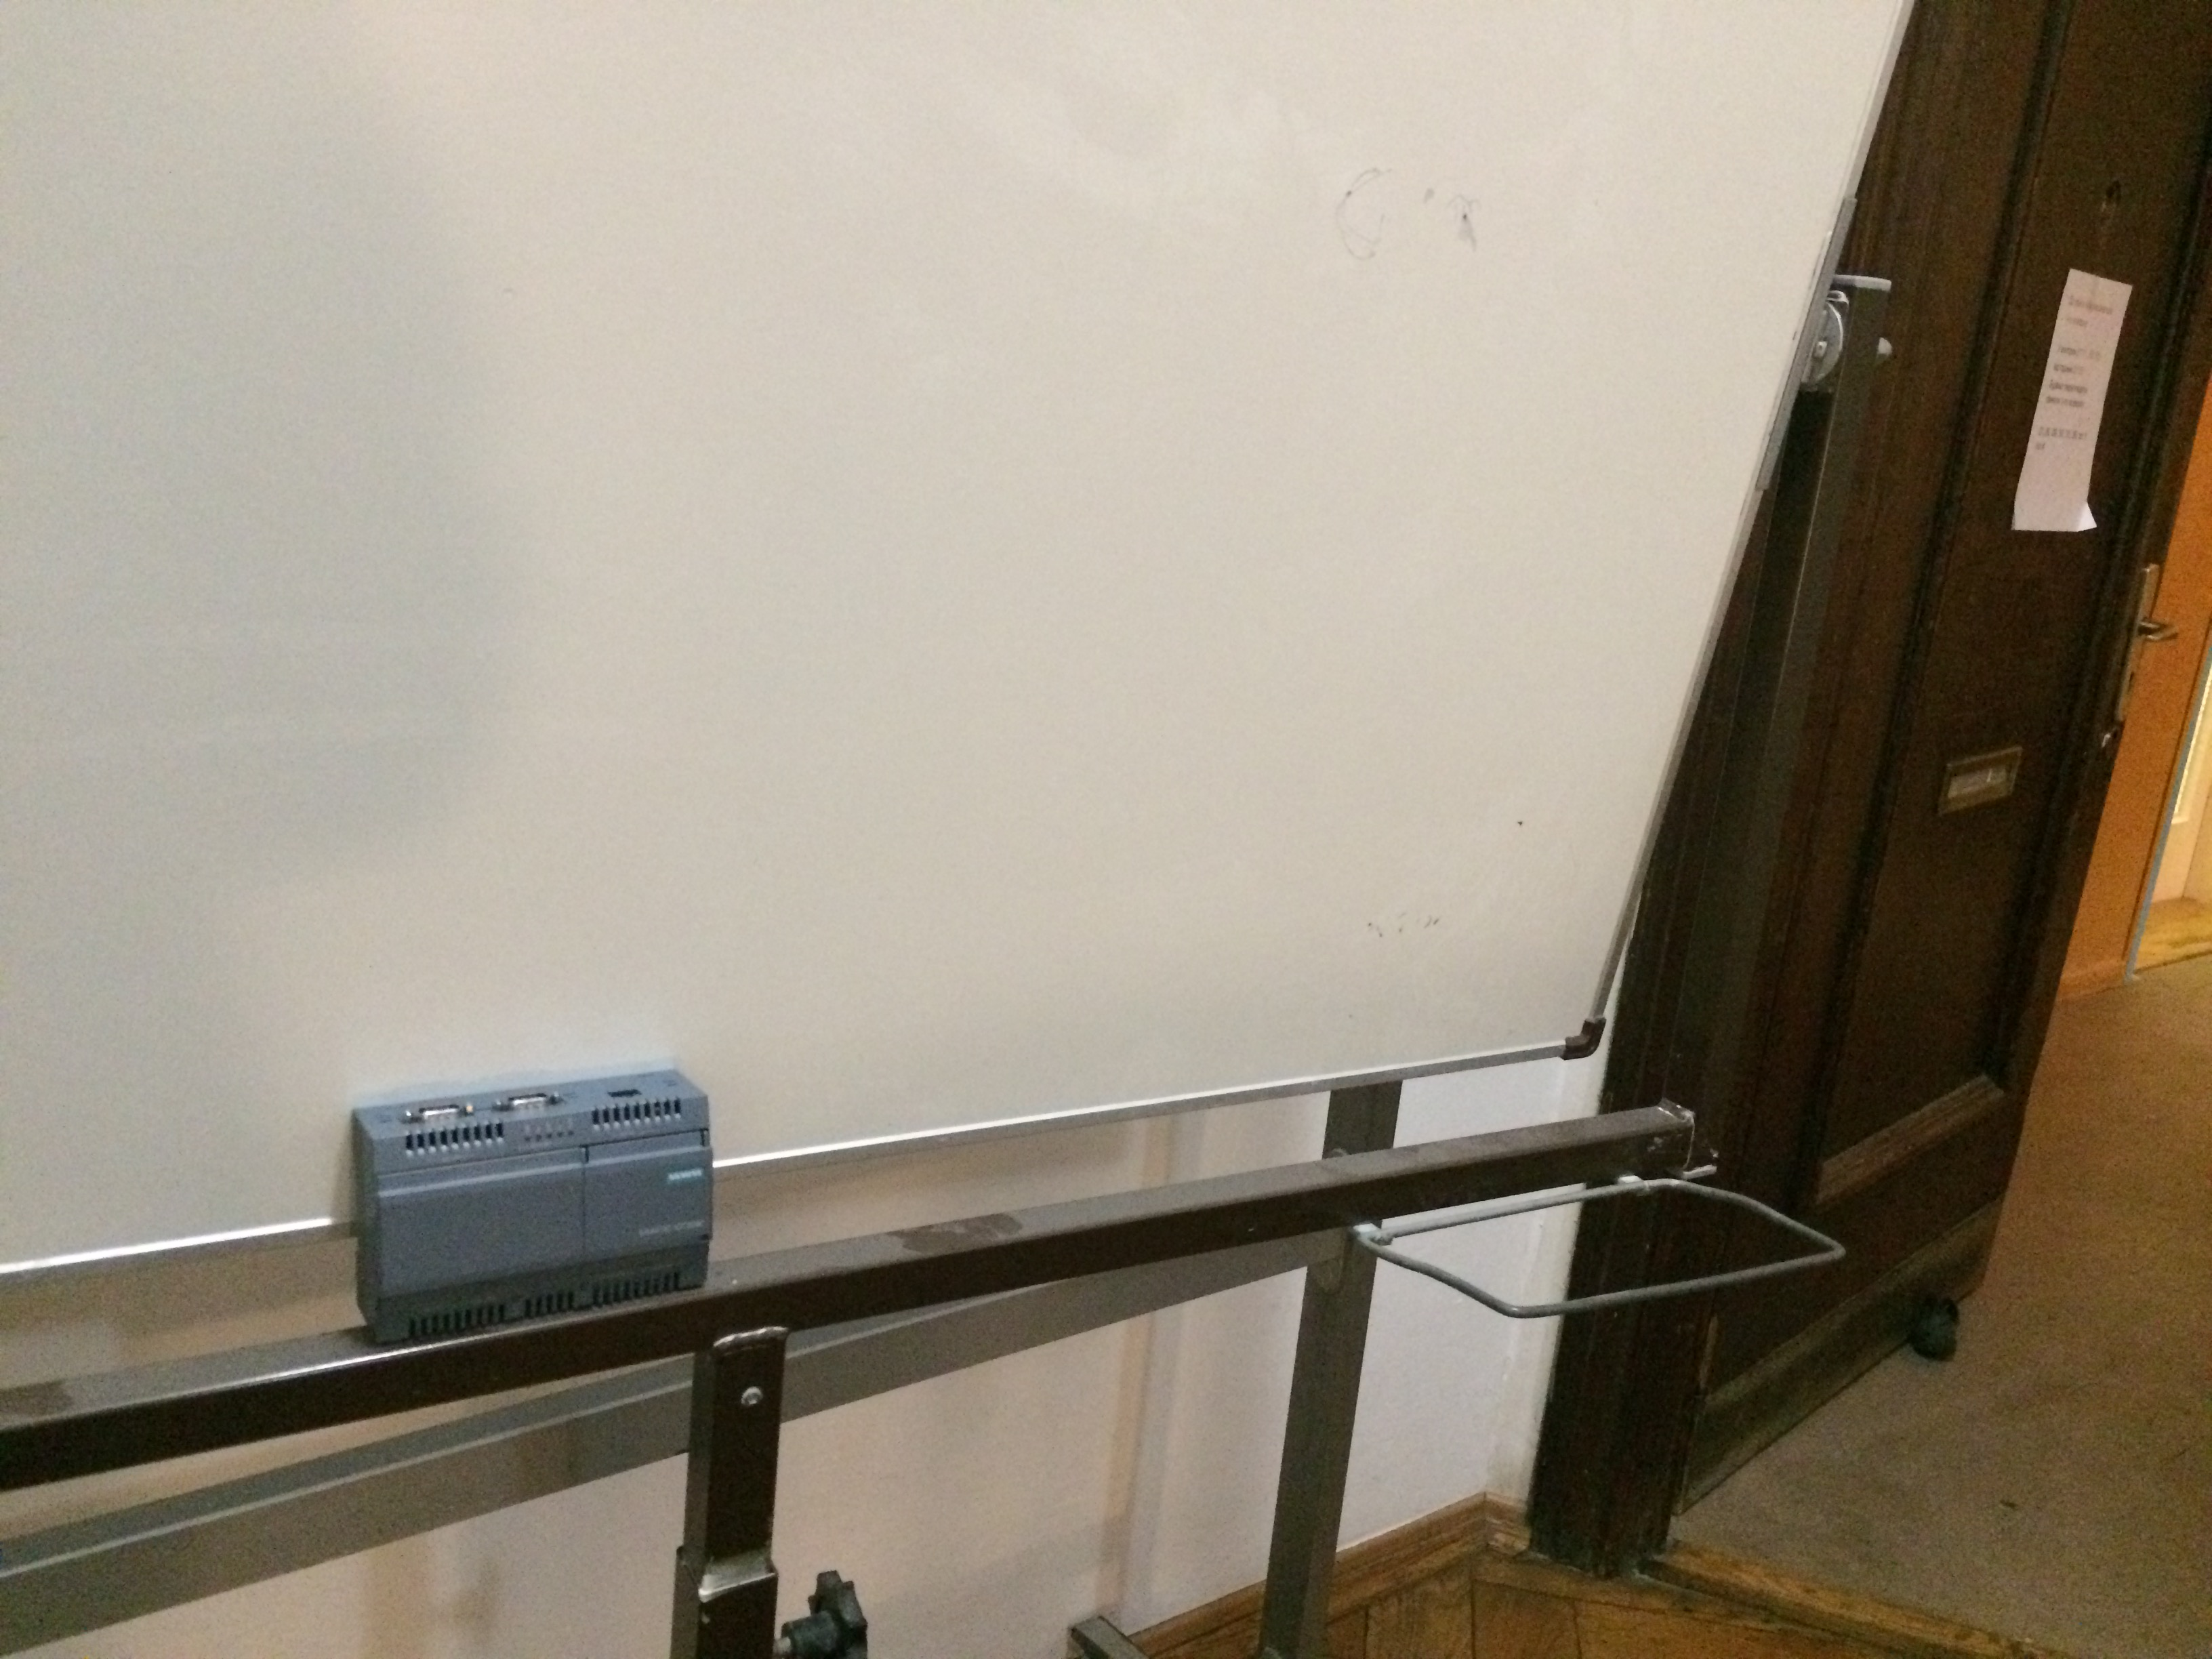iot2000: (348, 1066, 718, 1351)
